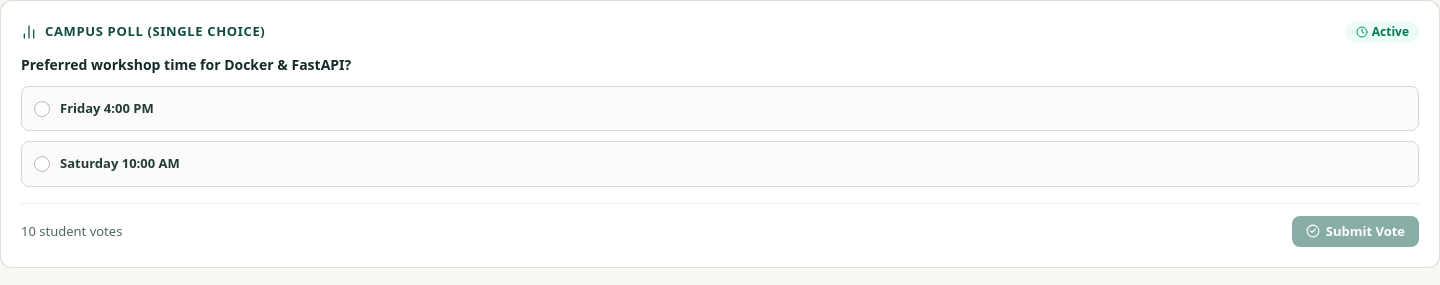
Test: PollWidget › allows selecting an option and submitting a vote
The width and height of the screenshot is (1440, 285).
Later steps or results of the test are not shown.
Click the button "Friday 4:00 PM".
click(107, 108)  # box [21, 86, 1419, 132]
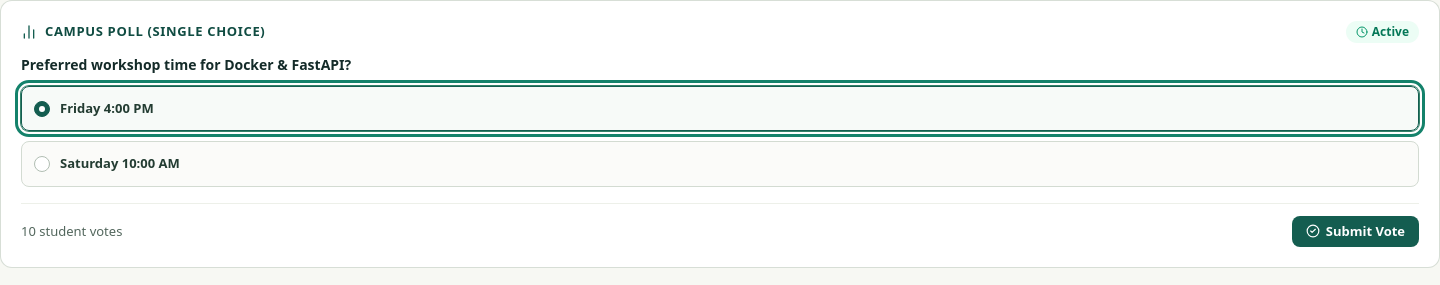
Expected: the button "Submit Vote" is enabled, [1292, 216, 1419, 247]
